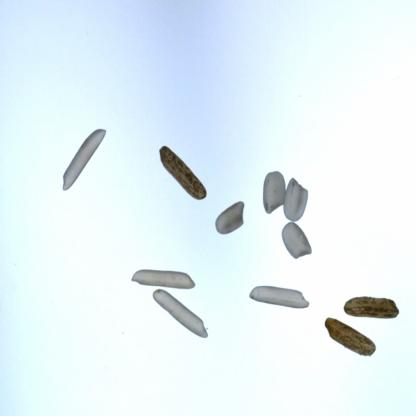Full: (129, 269, 206, 338), (62, 127, 107, 190), (158, 145, 208, 201), (324, 318, 376, 357), (248, 285, 310, 310), (130, 267, 196, 289), (279, 221, 313, 260), (343, 297, 398, 321), (283, 176, 308, 223), (263, 171, 287, 214), (214, 202, 245, 234)
